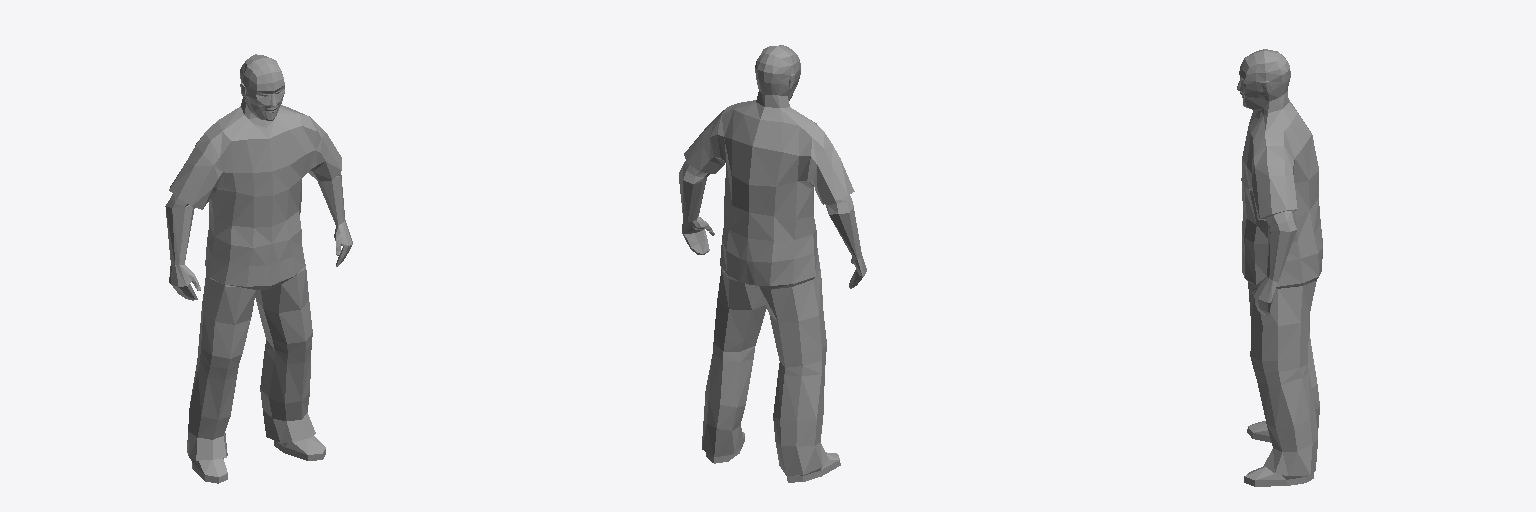
The model's file is classd.obj.
The picture shows the model from 3 angles: view 1: azimuth 30°, elevation 25°; view 2: azimuth 150°, elevation 25°; view 3: azimuth 270°, elevation 25°; orthographic projection.
Parts seen in each view (by area): view 1: classd; view 2: classd; view 3: classd.
Boxes of the visible parts, x1=… form: classd: x1=165, y1=54, x2=352, y2=483; classd: x1=679, y1=45, x2=866, y2=482; classd: x1=1237, y1=49, x2=1322, y2=486.
Size of the model in its own units: 1.29 by 2.77 by 0.5318.